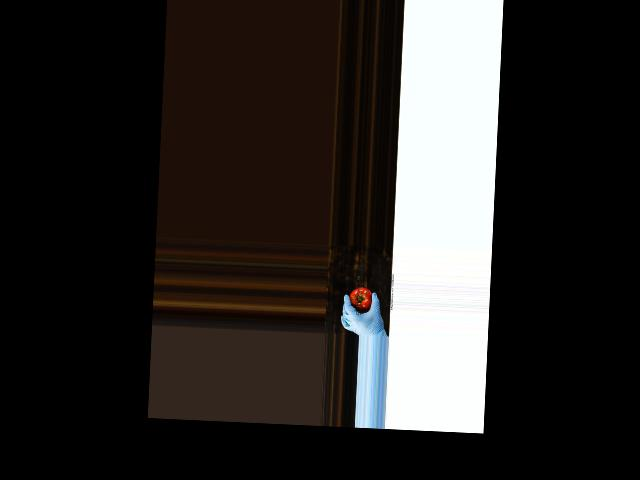tomato: (349, 286, 372, 312)
